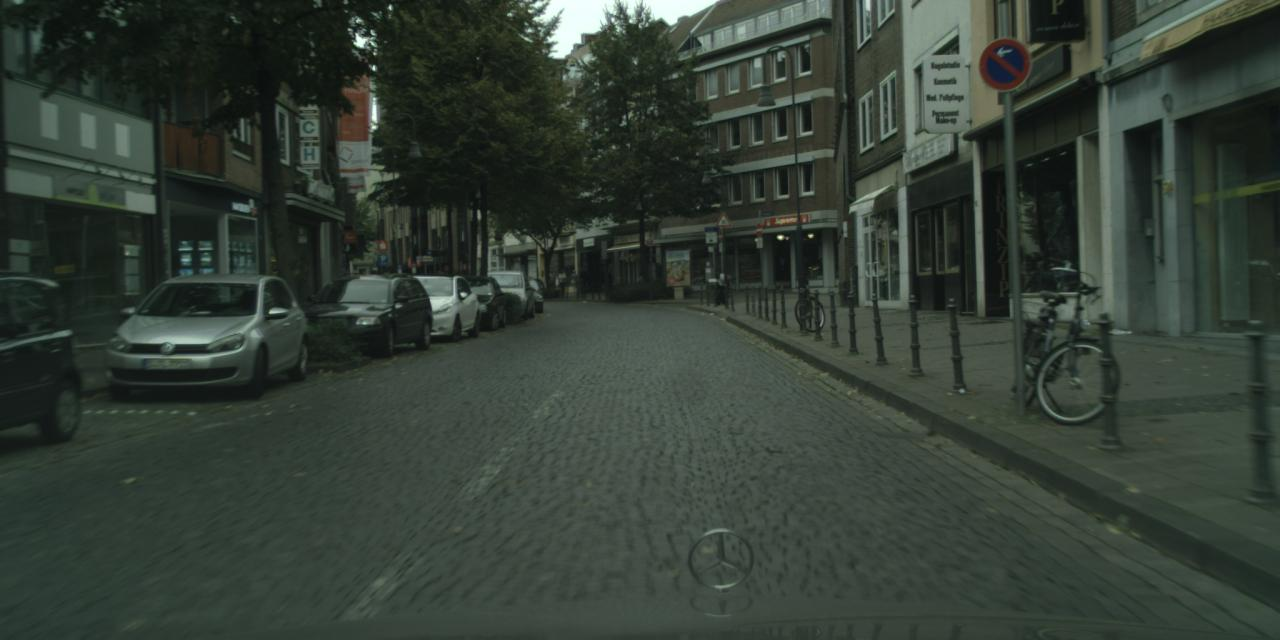ped: (577, 266, 588, 294), (556, 268, 566, 295), (546, 268, 556, 294), (570, 269, 580, 295)
